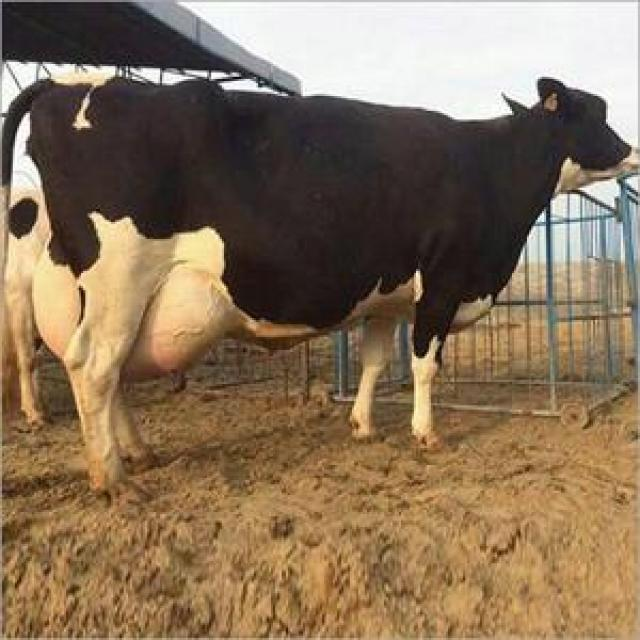cow: (4, 80, 634, 492)
